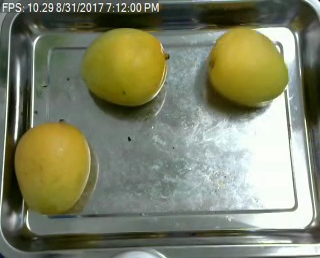Mango: (75, 25, 171, 109), (202, 24, 293, 109), (15, 119, 93, 217)
